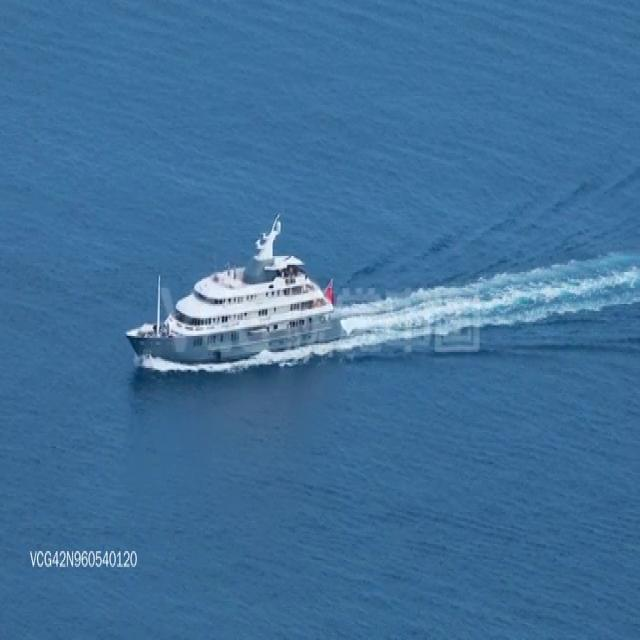passenger ship: (126, 216, 346, 359)
